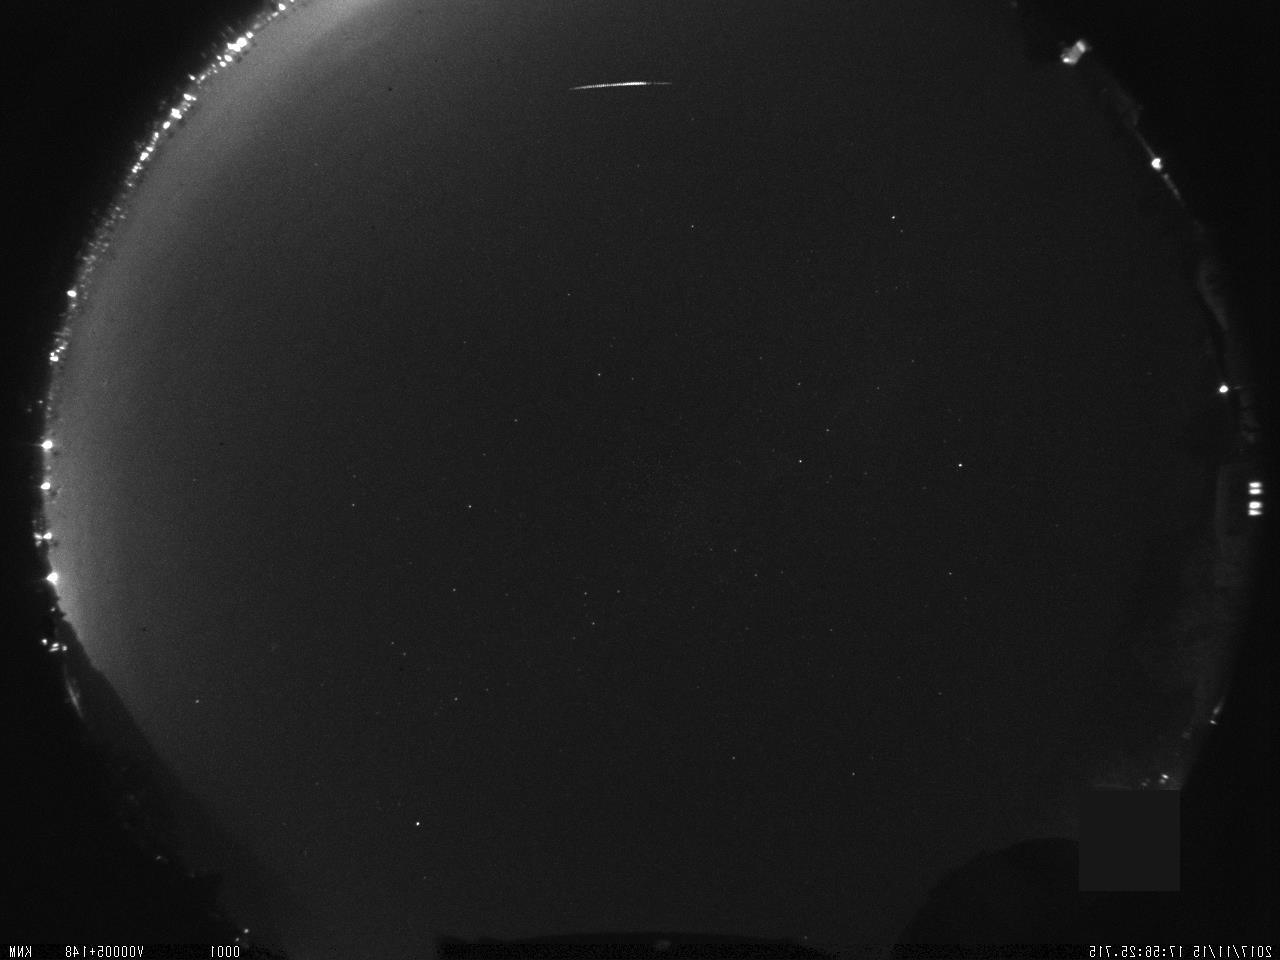meteor: (561, 66, 671, 101)
